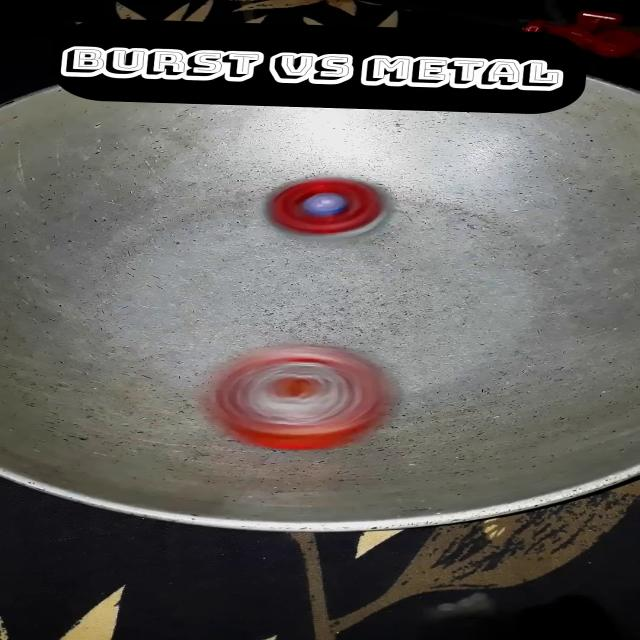beyblade: (187, 329, 413, 468), (249, 164, 400, 256)
